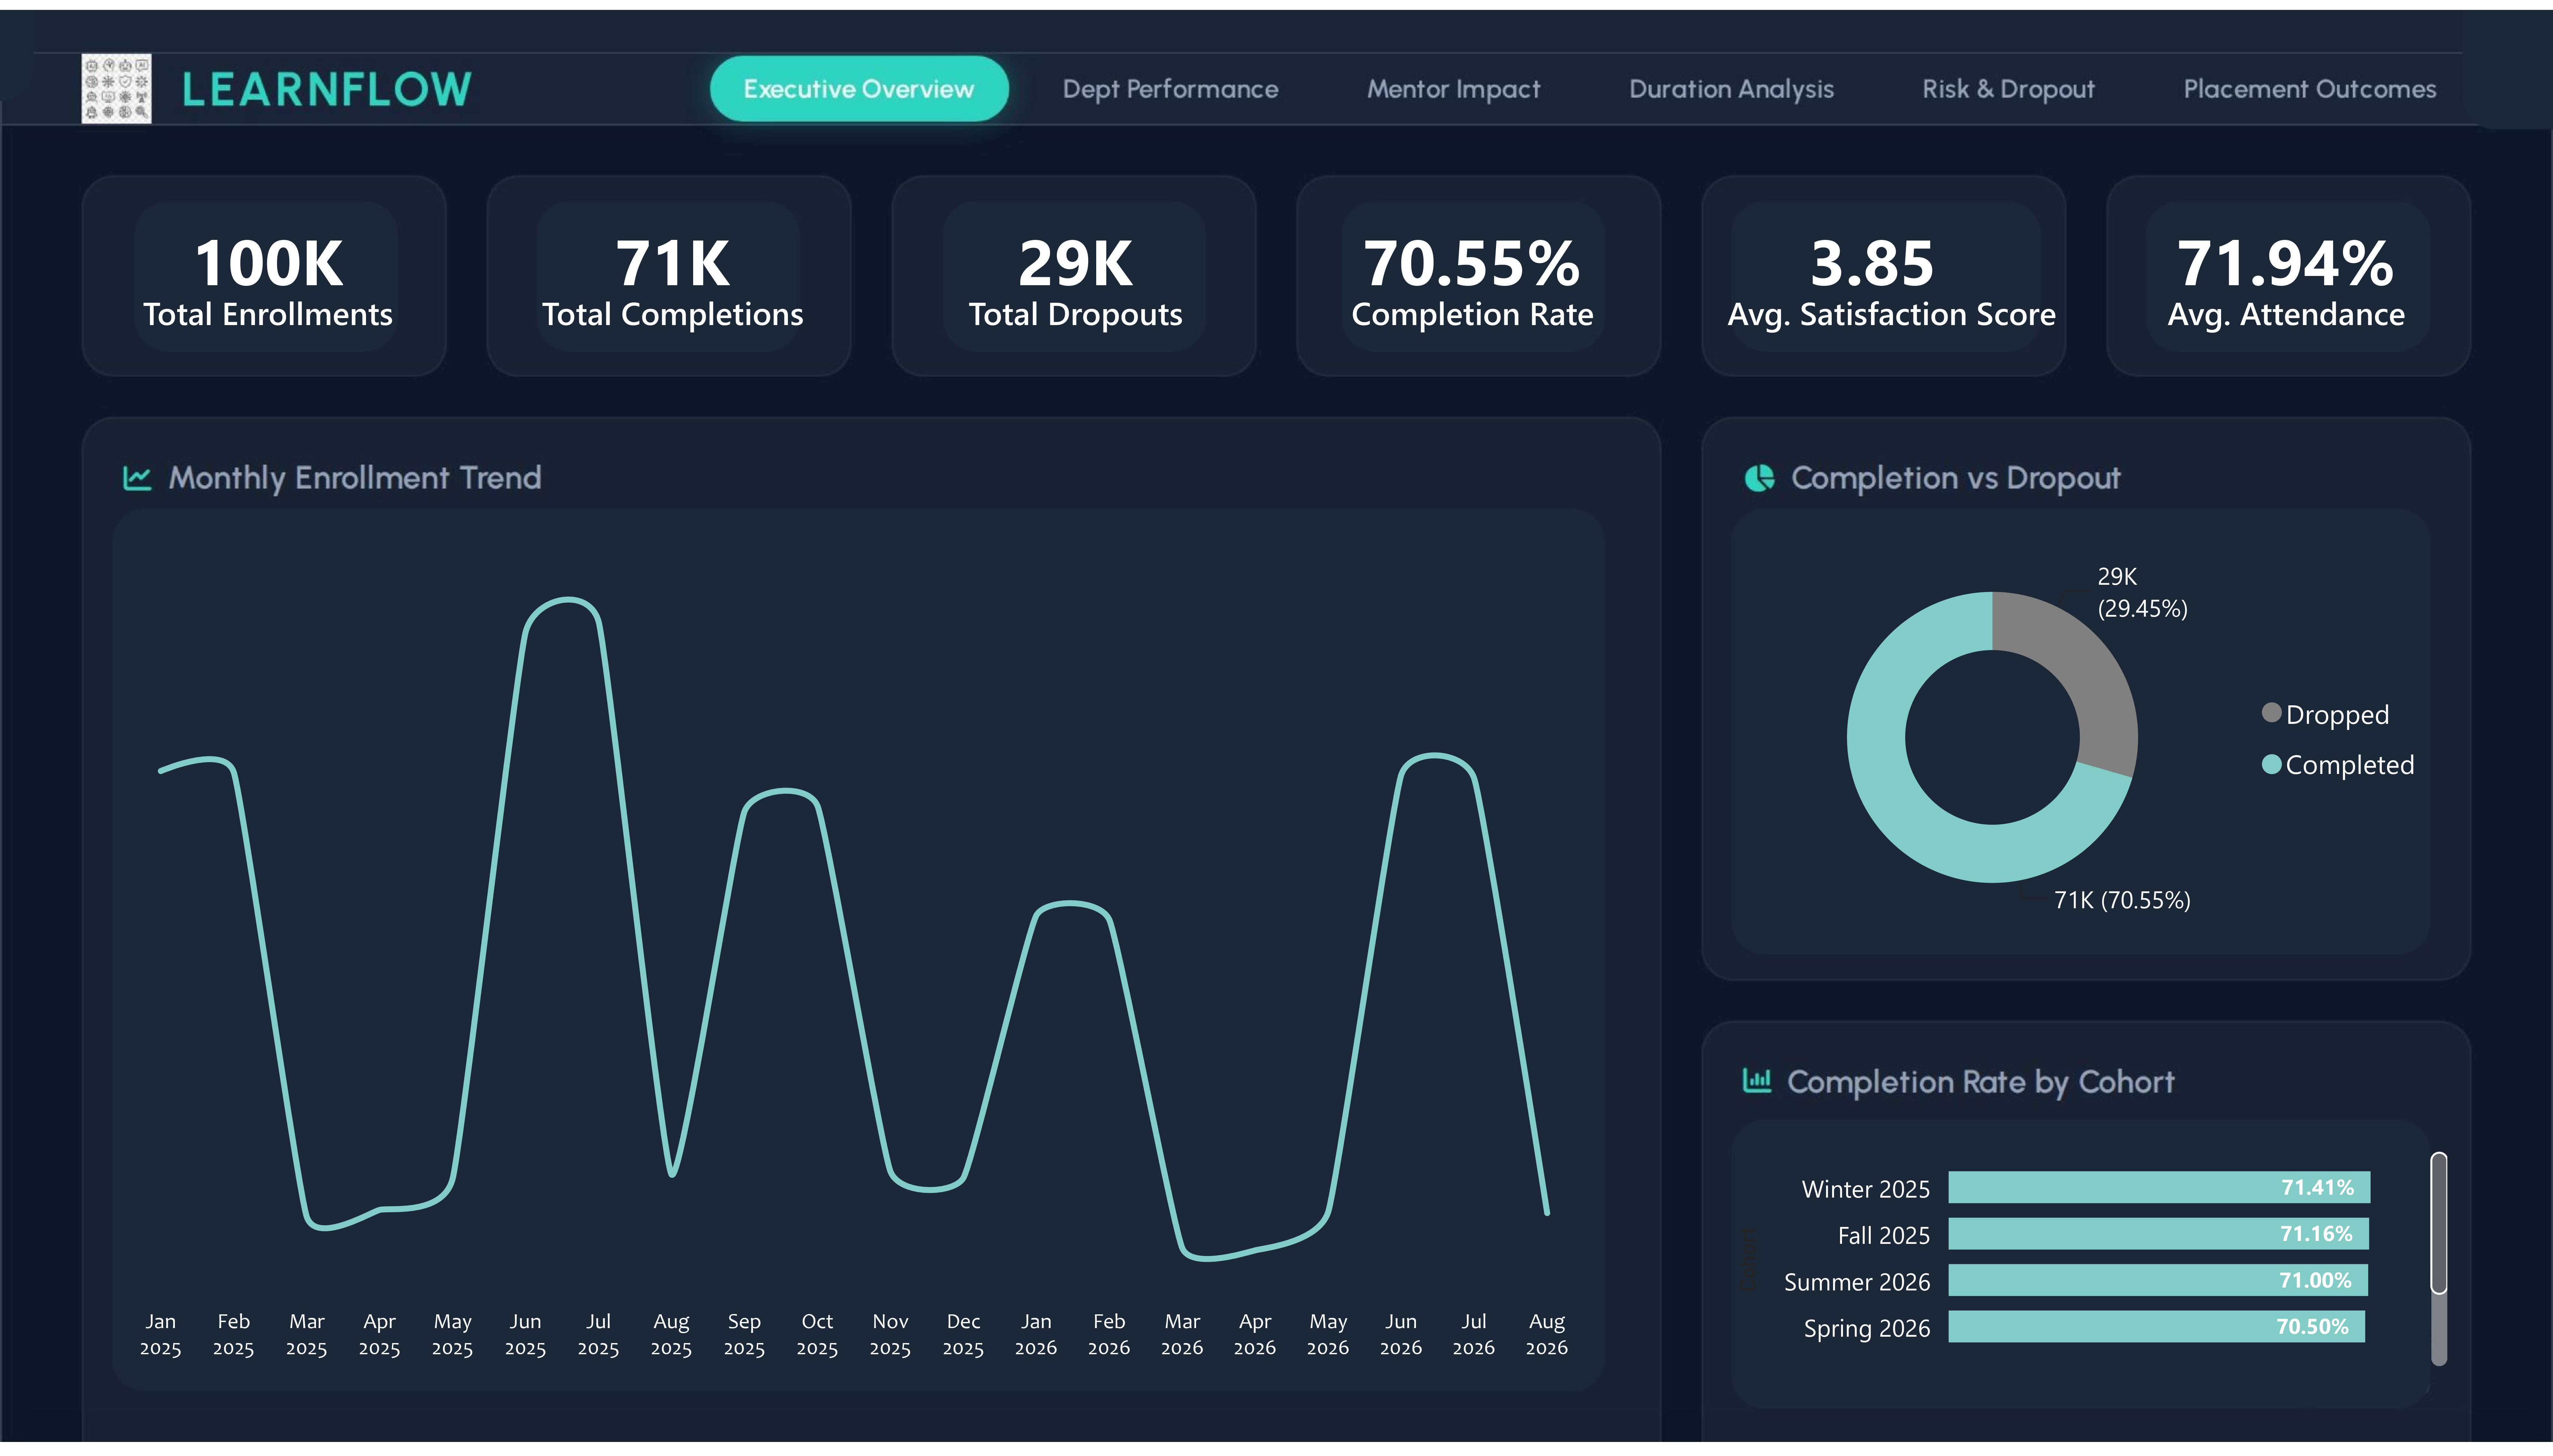

The dashboard page shown, as its layout file describes it:
{"tool":"powerbi","page":{"name":"Executive Overview","canvas":[1280,720],"ordinal":0},"visuals":[{"type":"cardVisual","fields":{"Data":["internship_data.Total Interns"]},"box":[48.8,77.8,170.8,91.5],"z":0},{"type":"textbox","box":[48.8,135.7,170.8,41.2],"z":1000},{"type":"cardVisual","fields":{"Data":["internship_data.Completed"]},"box":[251.6,77.8,170.8,91.5],"z":2000},{"type":"cardVisual","fields":{"Data":["internship_data.Dropped"]},"box":[454.5,77.8,170.8,91.5],"z":3000},{"type":"cardVisual","fields":{"Data":["internship_data.Completion Rate"]},"box":[652.7,77.8,170.8,91.5],"z":4000},{"type":"cardVisual","fields":{"Data":["internship_data.Avg Satisfaction"]},"box":[854,77.8,170.8,91.5],"z":5000},{"type":"cardVisual","fields":{"Data":["internship_data.Avg Attendance"]},"box":[1061.4,77.8,170.8,91.5],"z":6000},{"type":"textbox","box":[251.6,135.7,170.8,41.2],"z":7000},{"type":"textbox","box":[454.5,135.7,170.8,41.2],"z":8000},{"type":"textbox","box":[652.7,135.7,170.8,41.2],"z":9000},{"type":"textbox","box":[854,135.7,189.1,41.2],"z":10000},{"type":"textbox","box":[1061.4,135.7,170.8,41.2],"z":11000},{"type":"lineChart","fields":{"Y":["internship_data.Total Interns"],"Category":["internship_data.MonthYear"]},"box":[44.2,257.7,753.4,427],"z":12000},{"type":"donutChart","fields":{"Y":["internship_data.Dropped","internship_data.Completed"]},"box":[860.1,257.7,366,213.5],"z":13000},{"type":"clusteredBarChart","fields":{"Category":["internship_data.Cohort"],"Y":["internship_data.Completion Rate"]},"box":[866.2,559.7,366,125.1],"z":14000}]}

Visuals, with their boxes in screenshot pixels (x1, y1, x2, y2), scaled from the page's 1280x720 canvas onto the 2553x1456 screenshot:
cardVisual - internship_data.Total Interns: 97/157/438/342
textbox: 97/274/438/358
cardVisual - internship_data.Completed: 502/157/842/342
cardVisual - internship_data.Dropped: 907/157/1247/342
cardVisual - internship_data.Completion Rate: 1302/157/1643/342
cardVisual - internship_data.Avg Satisfaction: 1703/157/2044/342
cardVisual - internship_data.Avg Attendance: 2117/157/2458/342
textbox: 502/274/842/358
textbox: 907/274/1247/358
textbox: 1302/274/1643/358
textbox: 1703/274/2080/358
textbox: 2117/274/2458/358
lineChart - internship_data.Total Interns x internship_data.MonthYear: 88/521/1591/1385
donutChart - internship_data.Dropped x internship_data.Completed: 1716/521/2445/953
clusteredBarChart - internship_data.Cohort x internship_data.Completion Rate: 1728/1132/2458/1385
